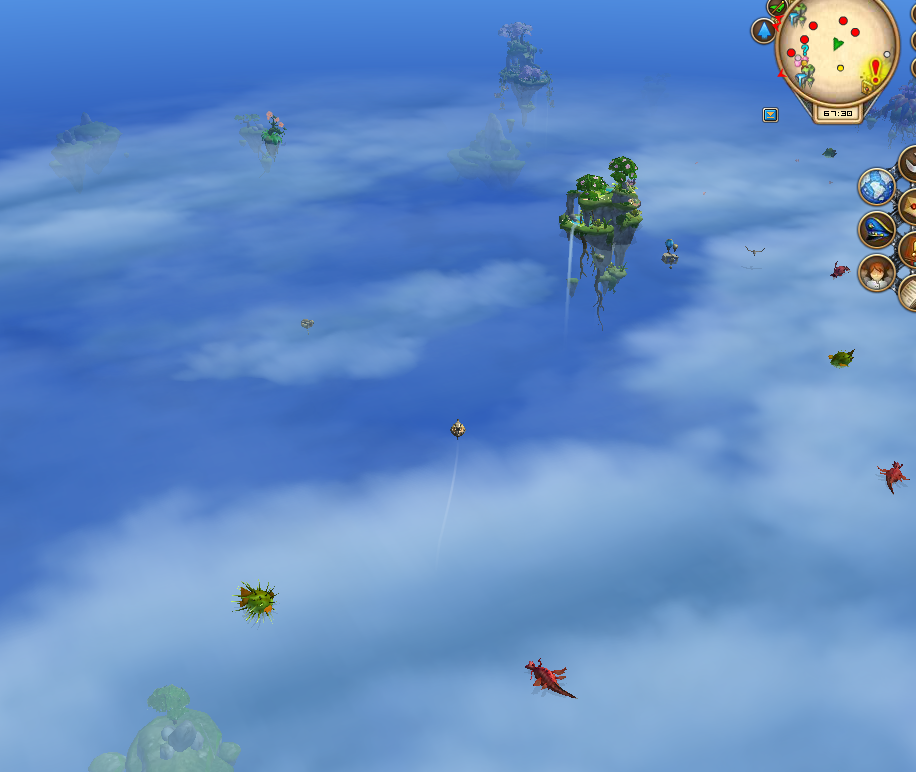dandelion-full: (259, 108, 288, 154)
